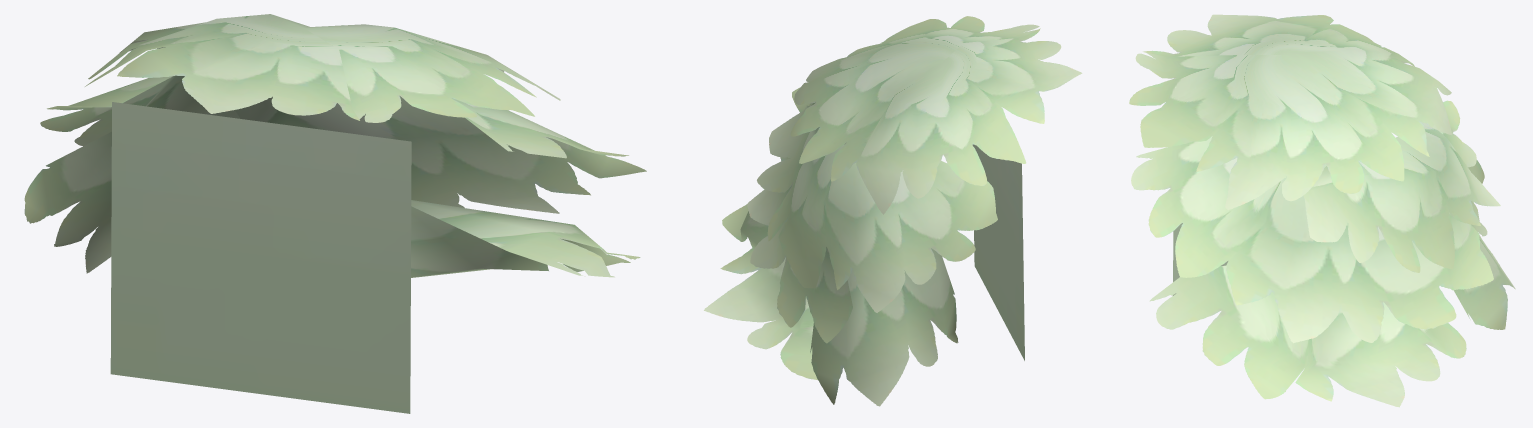
Rendered from FarmEmptyBushSmall.fbx.
3 views of the same model, side by side, from view 1: azimuth 30°, elevation 25°; view 2: azimuth 150°, elevation 25°; view 3: azimuth 270°, elevation 25° (orthographic). The views are drawn at different scales.
Visible parts, largest first — view 1: Bush; view 2: Bush; view 3: Bush.
Part boxes in pixels (x1,y1,x2,y2): Bush: (24, 14, 646, 413); Bush: (704, 16, 1082, 406); Bush: (1129, 14, 1515, 407).
Size of what is drawn, in the model's own units: 1.19 by 0.8395 by 1.1.
